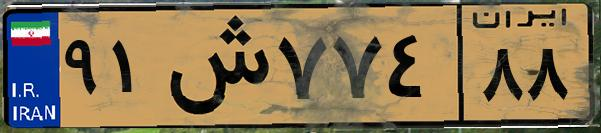1: (110, 28, 158, 98)
4: (385, 28, 445, 110)
7: (270, 28, 330, 110), (330, 28, 385, 110)
8: (475, 38, 525, 113), (525, 38, 570, 115)
9: (57, 26, 110, 100)
ش: (158, 12, 270, 120)
